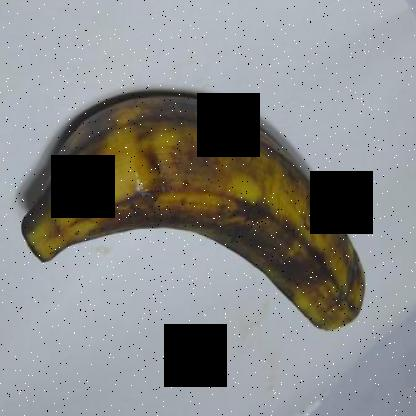overripe: (17, 74, 380, 348)
